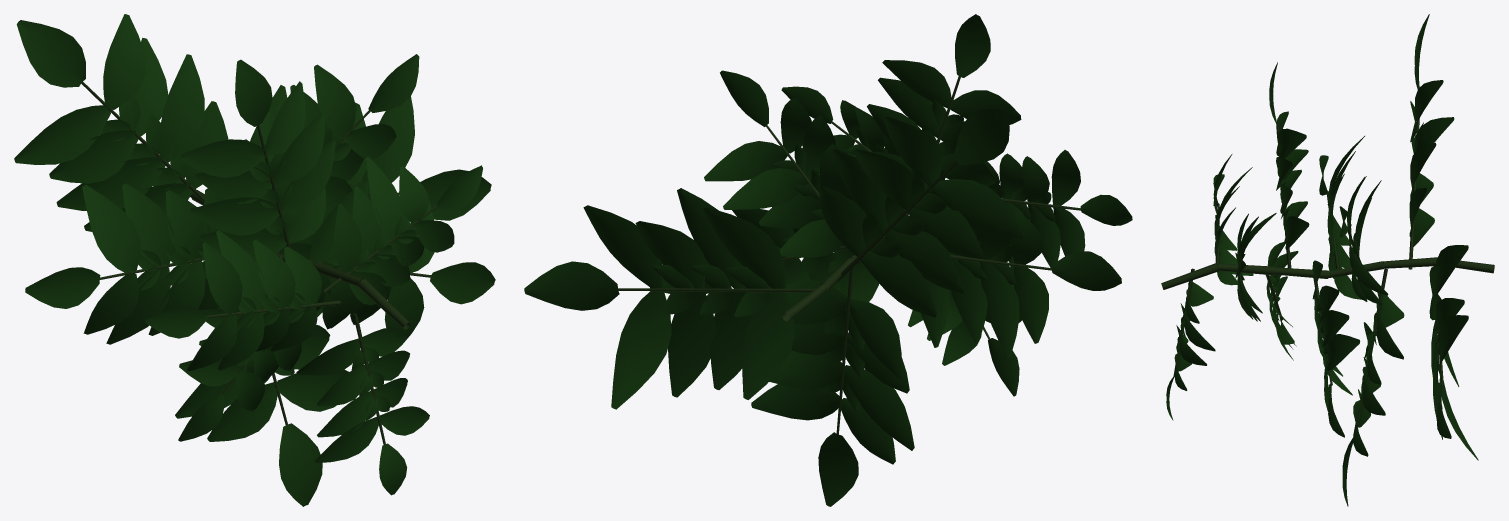
Rendered from tomato_plant_fruiting_1_foliage.obj.
3 renders of one model, left to right at view 1: azimuth 30°, elevation 25°; view 2: azimuth 150°, elevation 25°; view 3: azimuth 270°, elevation 25°, orthographic. The views are drawn at different scales.
Bounding box in the file's own units: 1.35 × 1.2 × 0.905.
